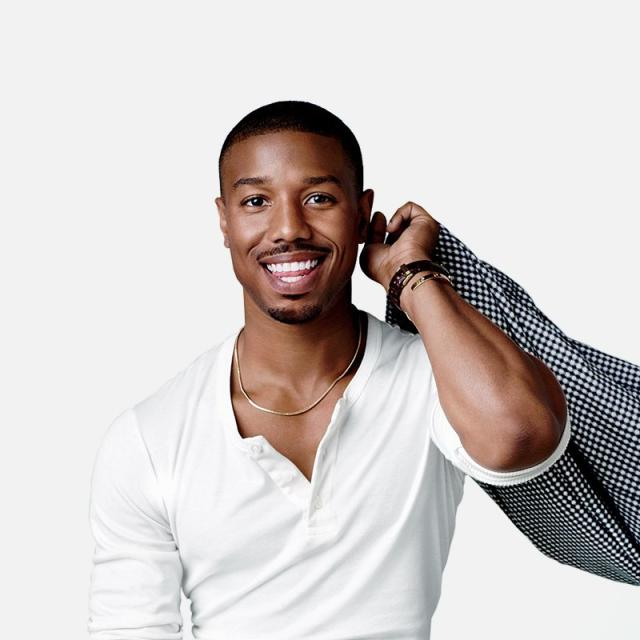human: (79, 90, 576, 640)
